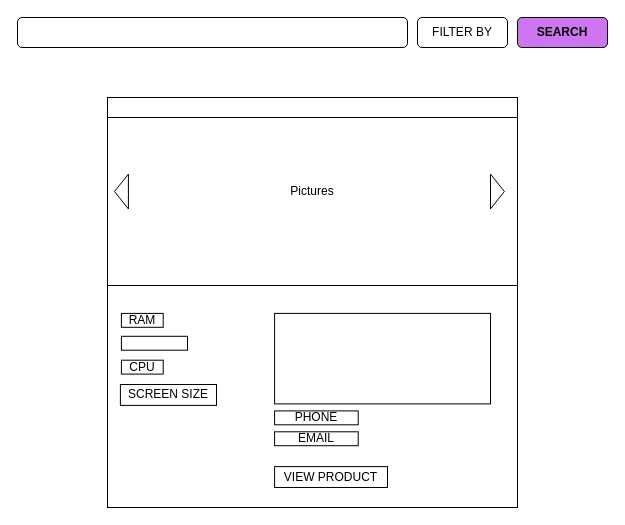
Image size: 625x525. Some labels were removed from this diagram. The centre of each missing label's shape, as x and y in pixels:
Description: point 382,358
LAPTOP TITLE: point 312,107
STORAGE: point 154,342
